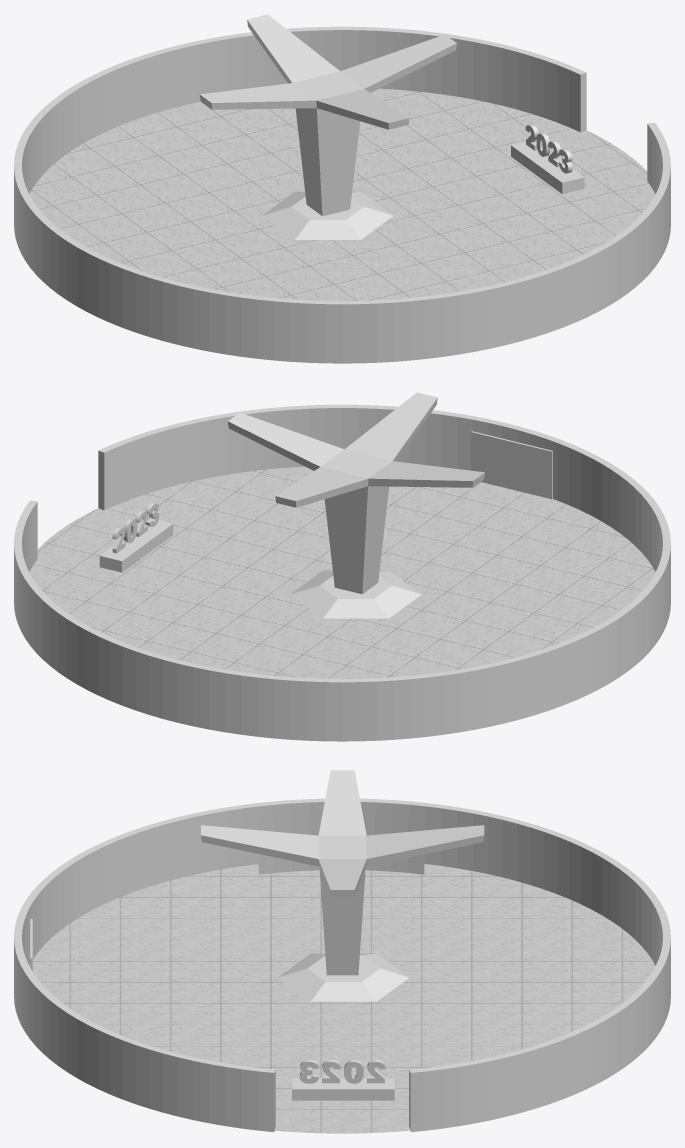
The model's file is exhibition.glb.
The picture shows the model from 3 angles, top to bottom: view 1: azimuth 30°, elevation 25°; view 2: azimuth 150°, elevation 25°; view 3: azimuth 270°, elevation 25°; orthographic projection.
Parts seen in each view (by area): view 1: Ground, MainFrame, Pillar, Table1, Table0, Text2023; view 2: Ground, MainFrame, Pillar, Table1, Screen0, Table0, Text2023; view 3: Ground, MainFrame, Pillar, Table1, Screen1, Table0, Text2023.
Part boxes in pixels (x1=…): Ground: x1=29, y1=88, x2=655, y2=300; MainFrame: x1=14, y1=26, x2=670, y2=363; Pillar: x1=199, y1=14, x2=456, y2=216; Table1: x1=262, y1=191, x2=393, y2=239; Table0: x1=511, y1=141, x2=584, y2=194; Text2023: x1=525, y1=124, x2=572, y2=173; Ground: x1=29, y1=466, x2=655, y2=678; MainFrame: x1=14, y1=404, x2=670, y2=741; Pillar: x1=228, y1=392, x2=484, y2=594; Table1: x1=290, y1=570, x2=421, y2=618; Screen0: x1=471, y1=431, x2=552, y2=499; Table0: x1=99, y1=518, x2=173, y2=572; Text2023: x1=112, y1=502, x2=159, y2=553; Ground: x1=29, y1=864, x2=655, y2=1133; MainFrame: x1=14, y1=798, x2=670, y2=1132; Pillar: x1=201, y1=770, x2=484, y2=975; Table1: x1=278, y1=953, x2=409, y2=1001; Screen1: x1=258, y1=812, x2=424, y2=874; Table0: x1=292, y1=1078, x2=394, y2=1100; Text2023: x1=299, y1=1060, x2=385, y2=1083.
Size of the model in its own units: 30 by 8.05 by 30.
Materials: 2 (1 with a texture image).
